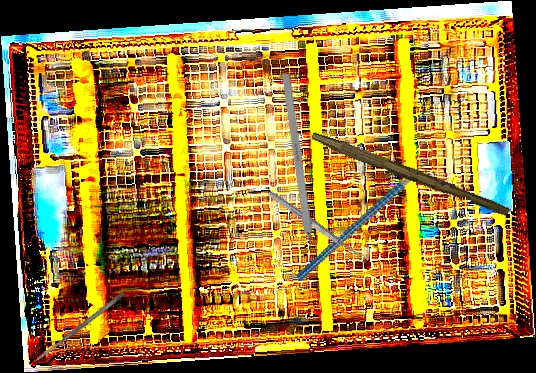Chopper: (269, 142, 461, 282)
Hook Surgical: (281, 73, 318, 272)
Scalpel Handle: (308, 131, 512, 218)
Spatula Surgical: (34, 291, 126, 363)
Surgical Spoon: (266, 189, 370, 265)
